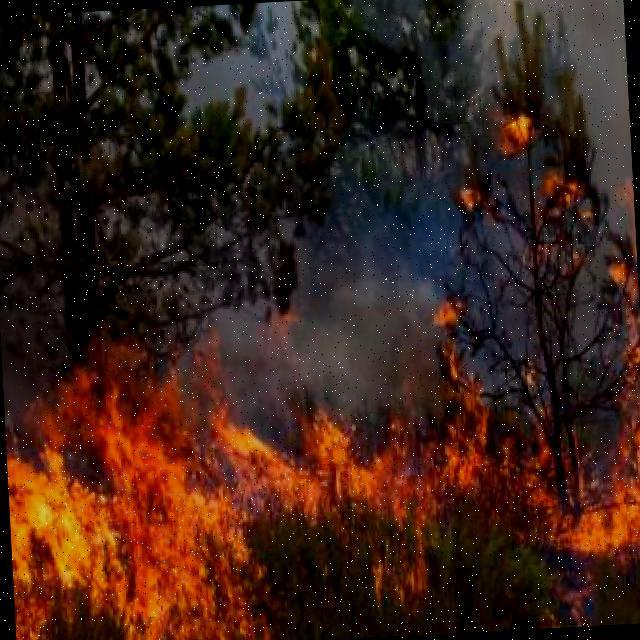Fire: (6, 335, 244, 640), (241, 397, 640, 578)
